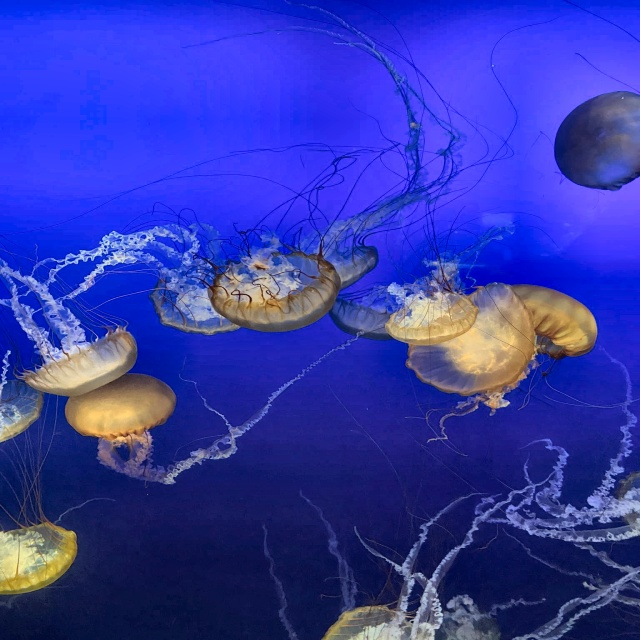jellyfish: (398, 279, 535, 396), (212, 246, 342, 332), (554, 89, 639, 191), (20, 326, 138, 397), (151, 262, 256, 336), (504, 281, 598, 360), (61, 376, 177, 439), (0, 506, 78, 595), (385, 291, 478, 344), (320, 605, 439, 639), (324, 297, 405, 342), (315, 238, 383, 289), (0, 381, 45, 451)
